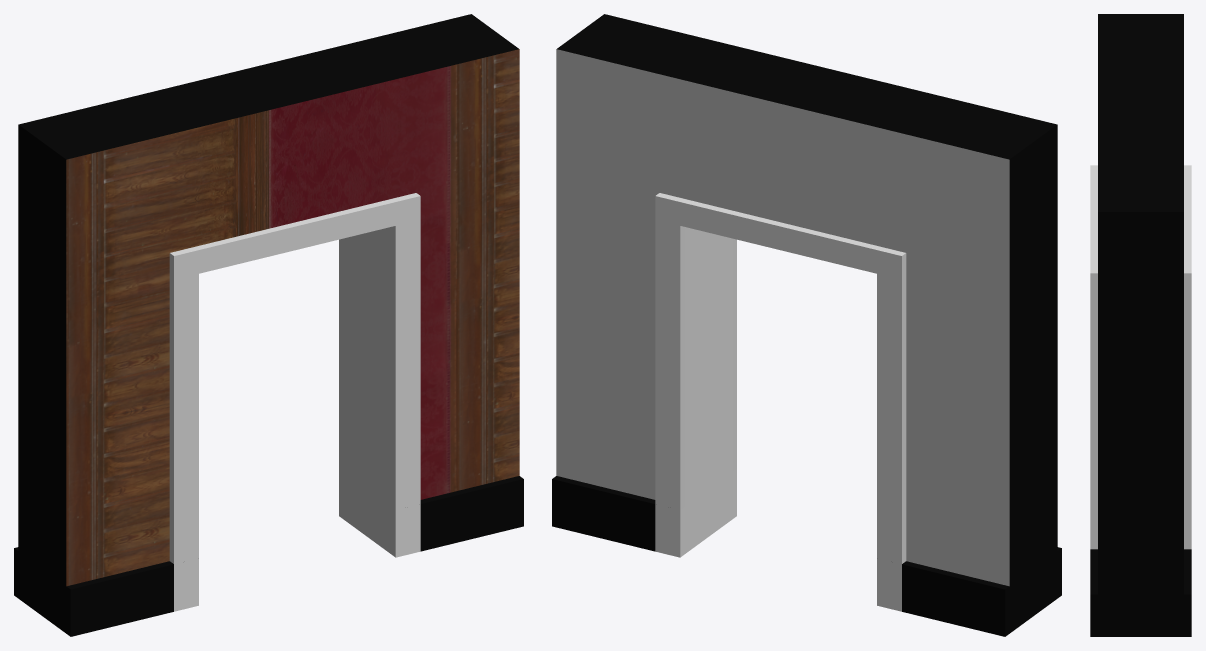
The model's file is door_simple_high.fbx.
3 renders of one model, left to right at view 1: azimuth 30°, elevation 25°; view 2: azimuth 150°, elevation 25°; view 3: azimuth 270°, elevation 25°, orthographic. The views are drawn at different scales.
Visible parts, largest first — view 1: Wall_Door_002__1_; view 2: Wall_Door_002__1_; view 3: Wall_Door_002__1_.
Boxes of the visible parts, left/top/right/bottom form: Wall_Door_002__1_: left=14, top=14, right=523, bottom=636; Wall_Door_002__1_: left=552, top=14, right=1061, bottom=636; Wall_Door_002__1_: left=1090, top=14, right=1191, bottom=636.
Bounding box in the file's own units: 300 × 300 × 65.
